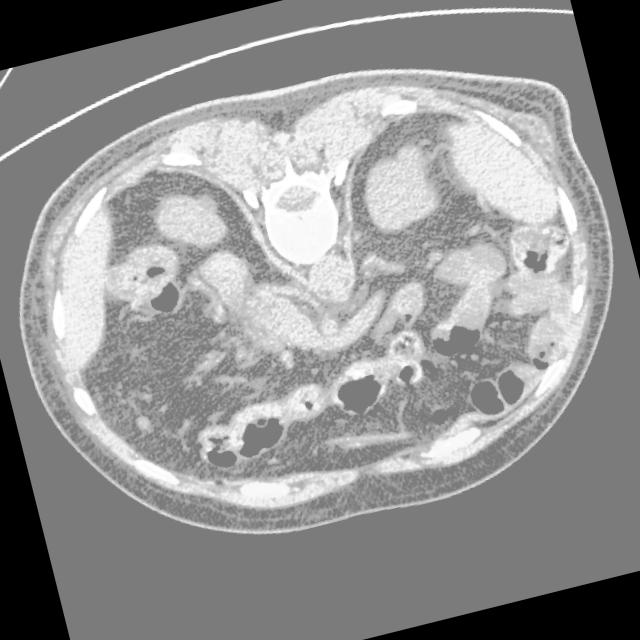cysts: (140, 193, 608, 486)
